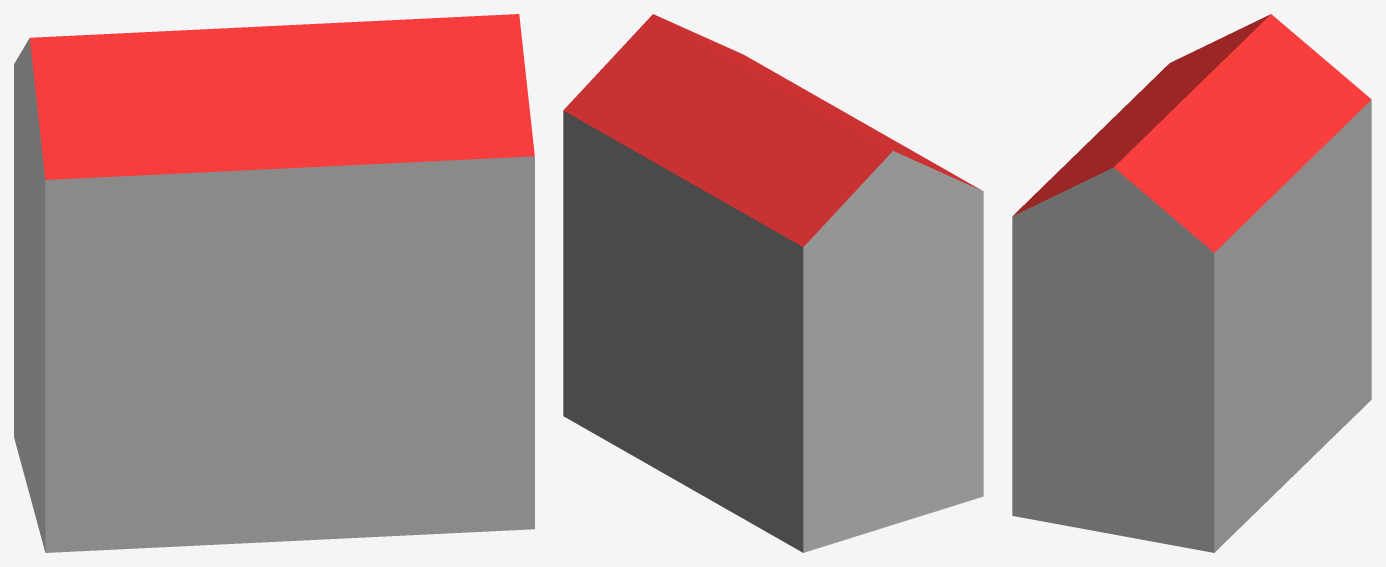
Rendered from DEBY_LOD2_4907027.dae.
3 views of the same model, side by side, from view 1: azimuth 30°, elevation 25°; view 2: azimuth 150°, elevation 25°; view 3: azimuth 270°, elevation 25° (orthographic). The views are drawn at different scales.
Size of the model in its own units: 24.82 by 19.8 by 22.31.
